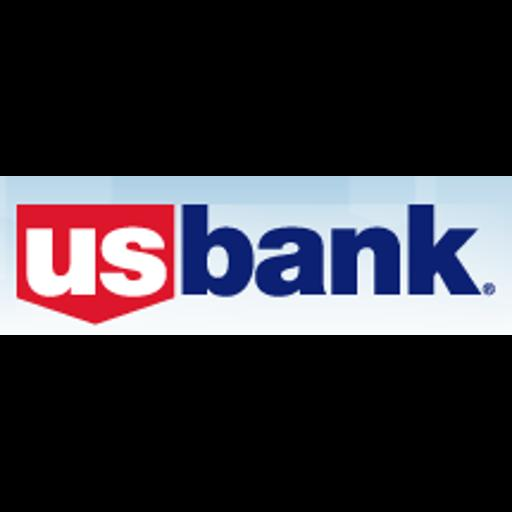U-S- Bank: (0, 176, 512, 335)
